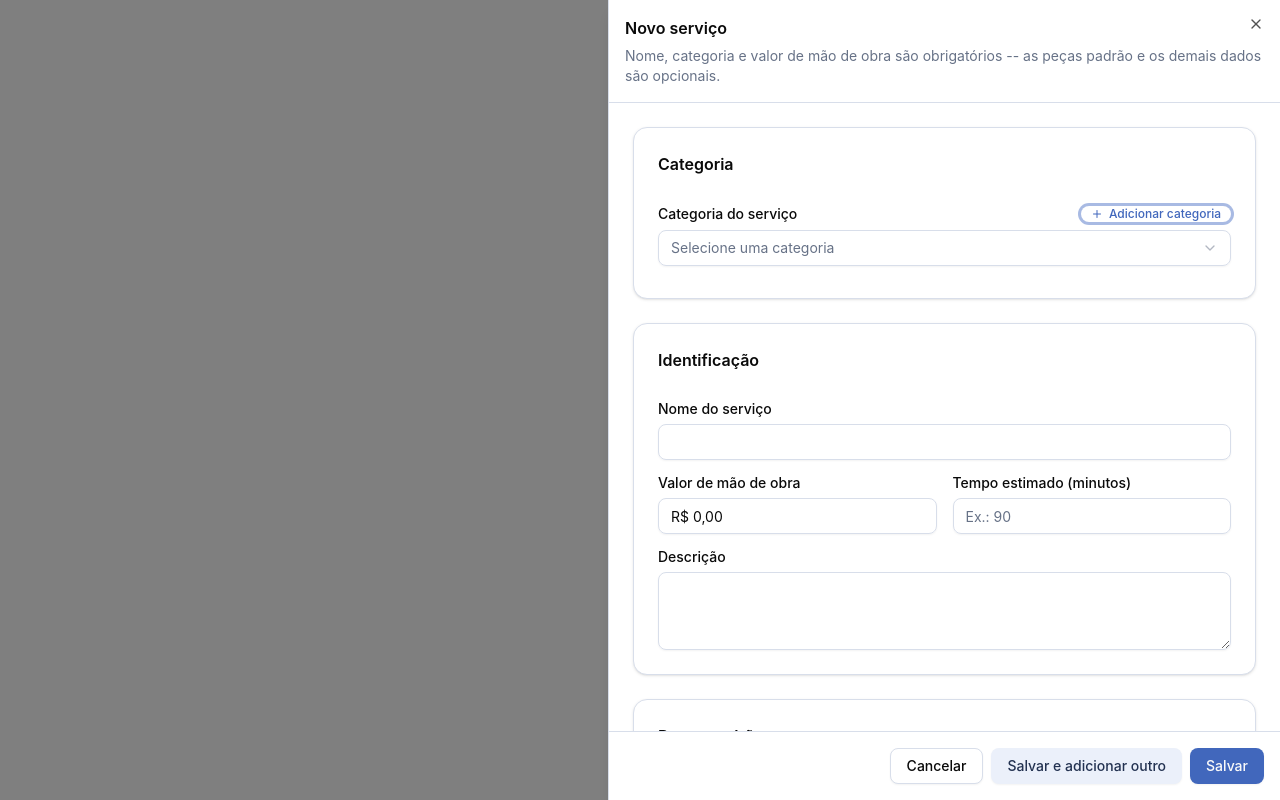
Test case: ServiceFormSheet › requires a name and a category before submitting
Click the button "Salvar" at point(1227, 766), box [1190, 748, 1264, 784]
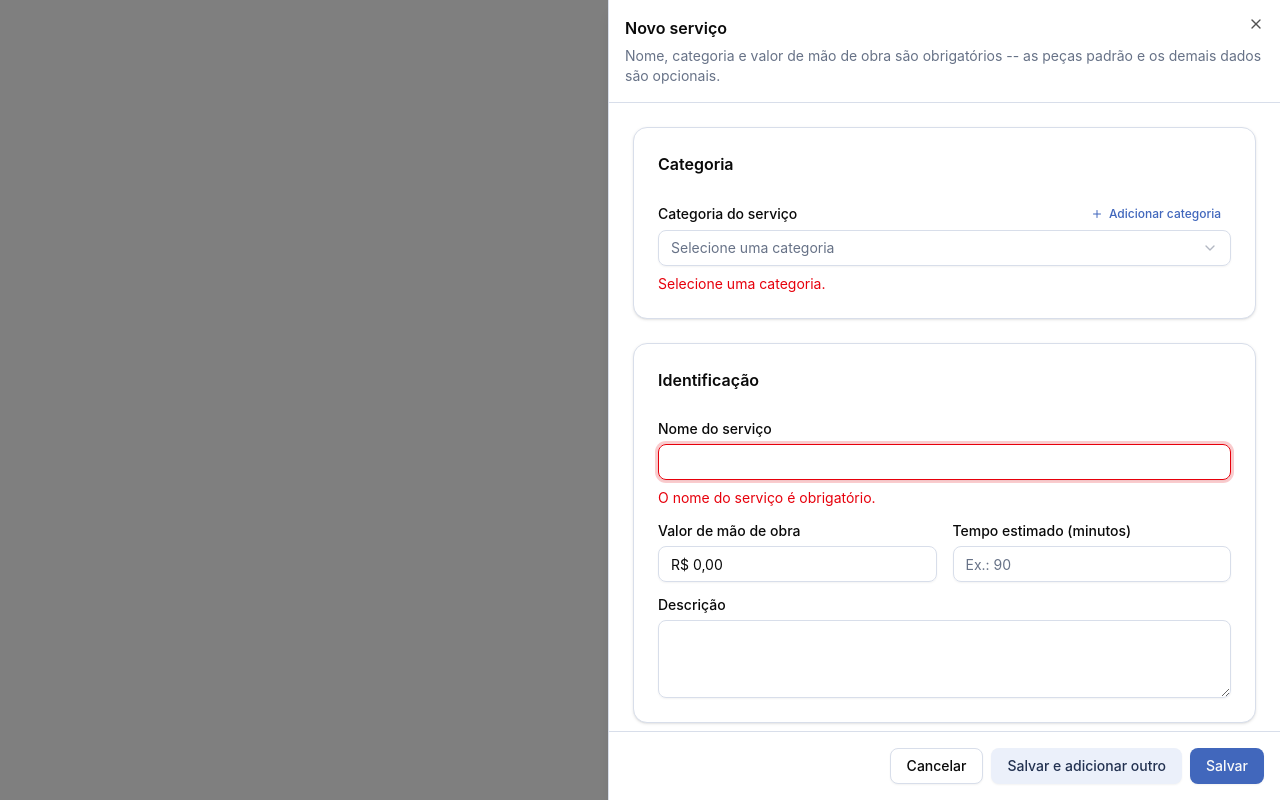
Check: the text "O nome do serviço é obrigatório." is shown, box [658, 489, 876, 506]
Check: the text "Selecione uma categoria." is shown, box [658, 275, 826, 292]
